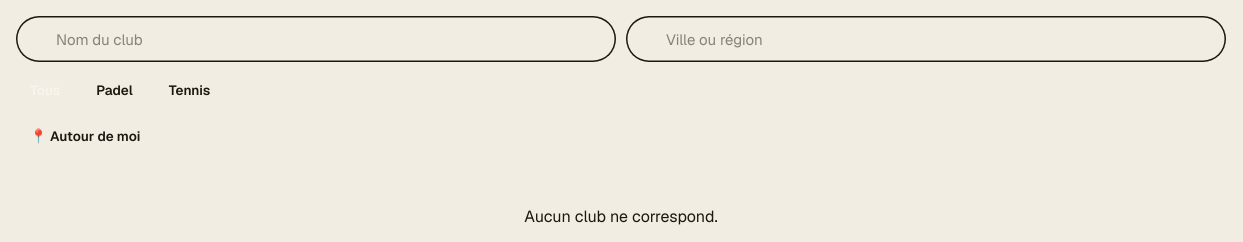
Test: « Effacer les filtres » apparaît sur un filtre actif (nom) et le vide
Expected: the button "Effacer les filtres" is not shown
Type "Padel" into the field with placeholder "Nom du club".
click(316, 39); type("Padel")  # box left=16, top=16, right=616, bottom=62
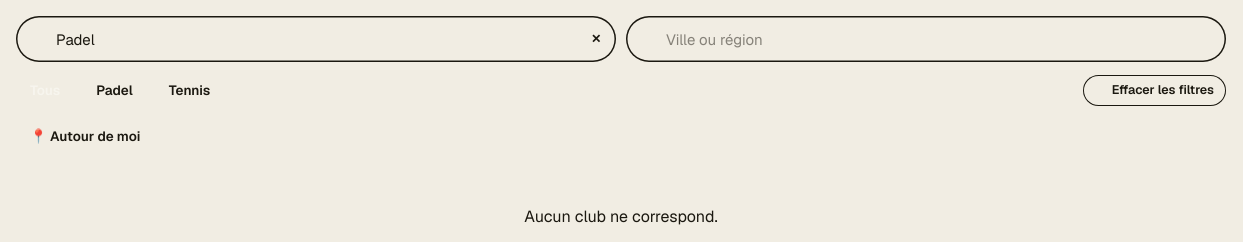
Now the button "Effacer les filtres" is shown
Click the button "Effacer les filtres".
click(1154, 90)  # box left=1083, top=75, right=1226, bottom=106
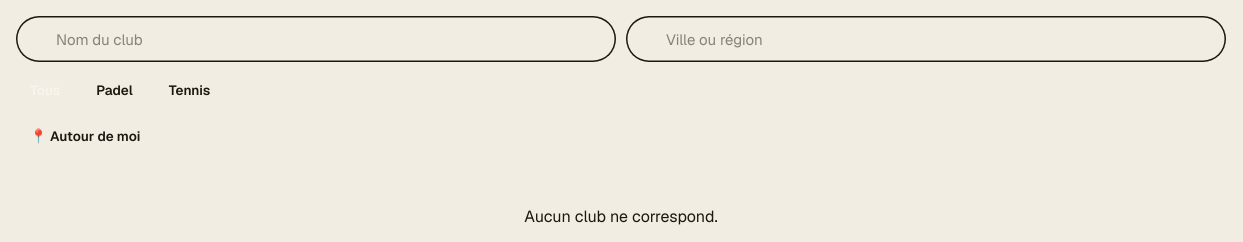
Now the field with placeholder "Nom du club" is empty, box left=16, top=16, right=616, bottom=62
Now the button "Effacer les filtres" is gone
